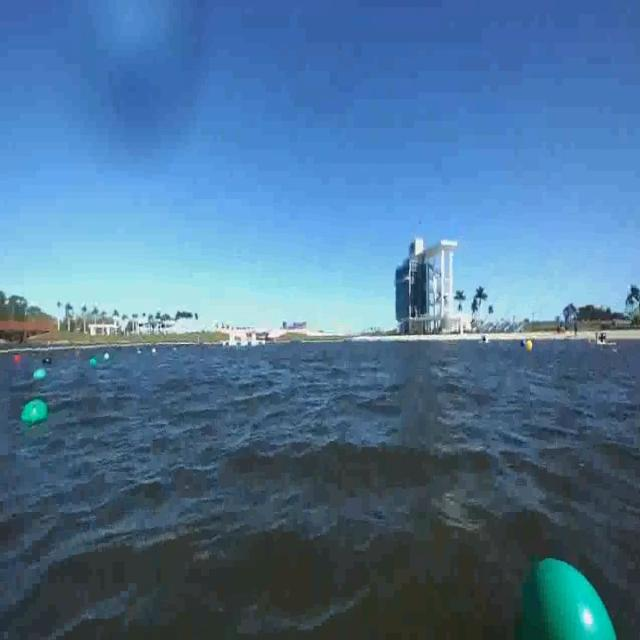green-buoy: (527, 547, 637, 640), (20, 402, 47, 427), (33, 368, 45, 379), (90, 355, 98, 369)
yellow-buoy: (526, 340, 533, 353)
